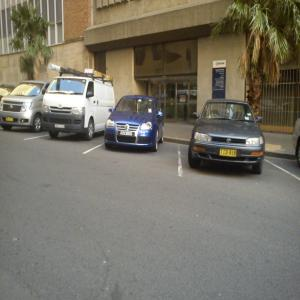Vehicle-registration-plate: (219, 149, 238, 157), (120, 132, 133, 138), (7, 118, 15, 125), (56, 125, 65, 130)
